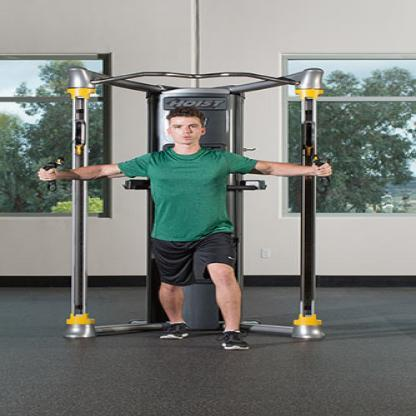chest fly machine: (38, 53, 351, 358)
